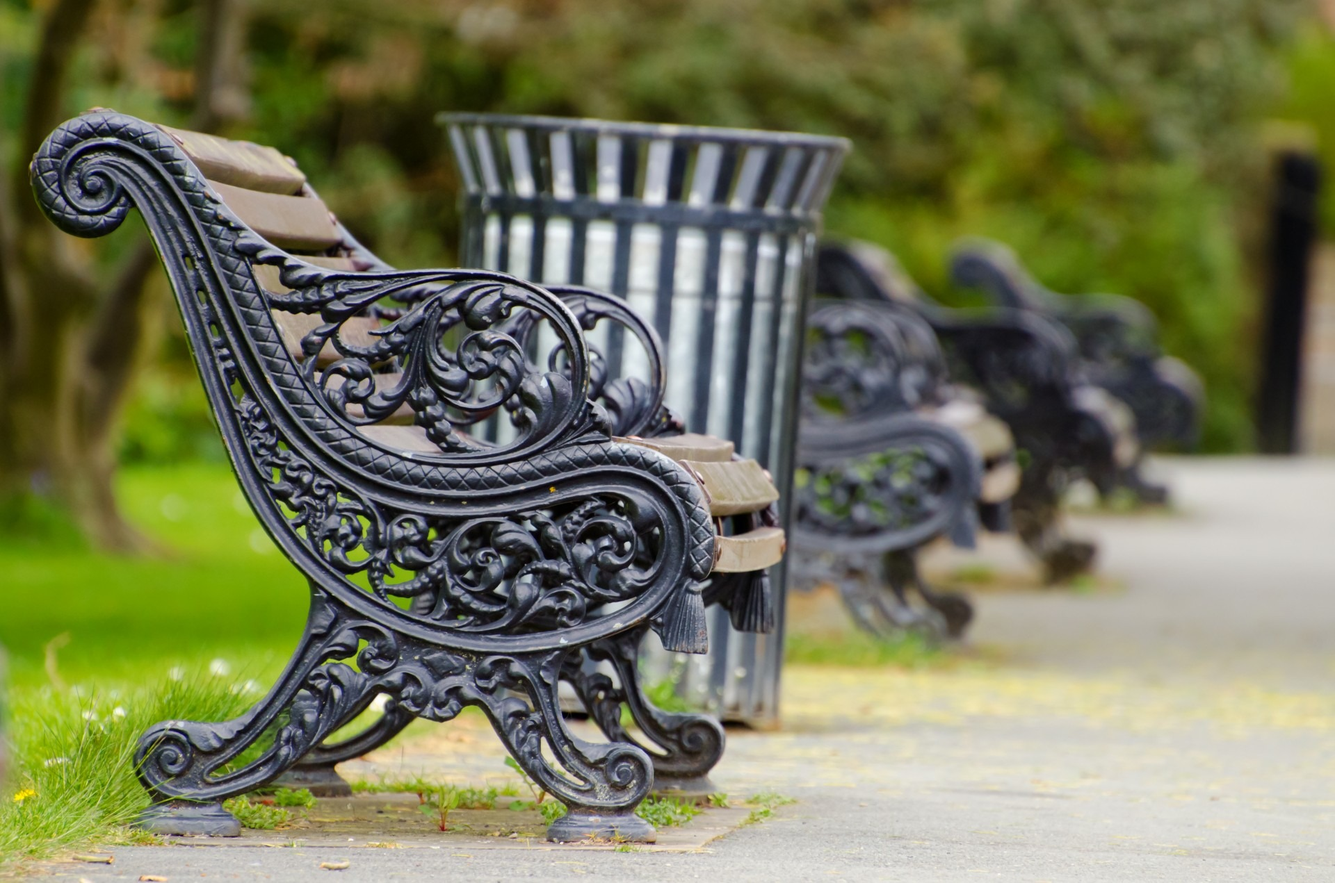Chair: (14, 108, 760, 854)
